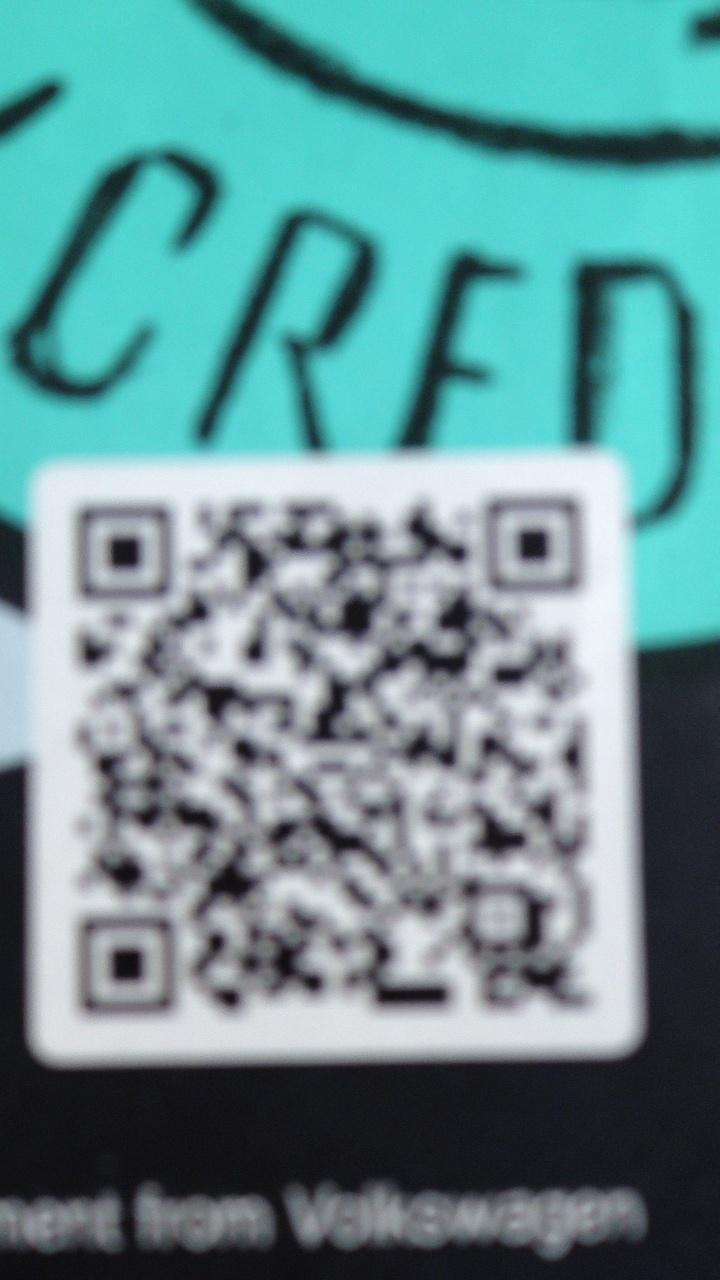Finder pattern: (479, 491, 590, 599), (68, 497, 181, 601), (64, 904, 184, 984)
